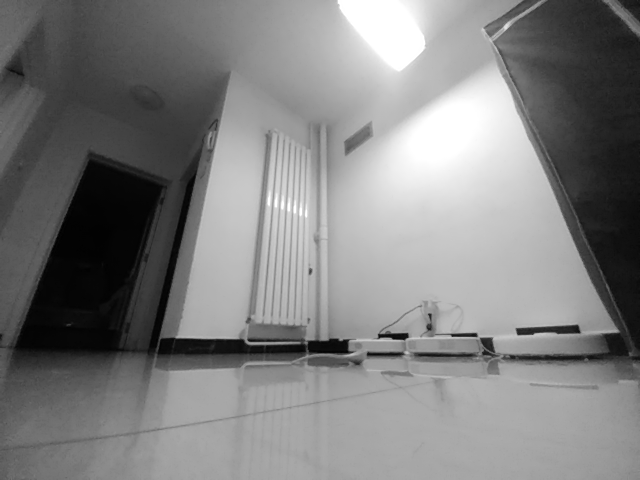others: (291, 344, 368, 367)
